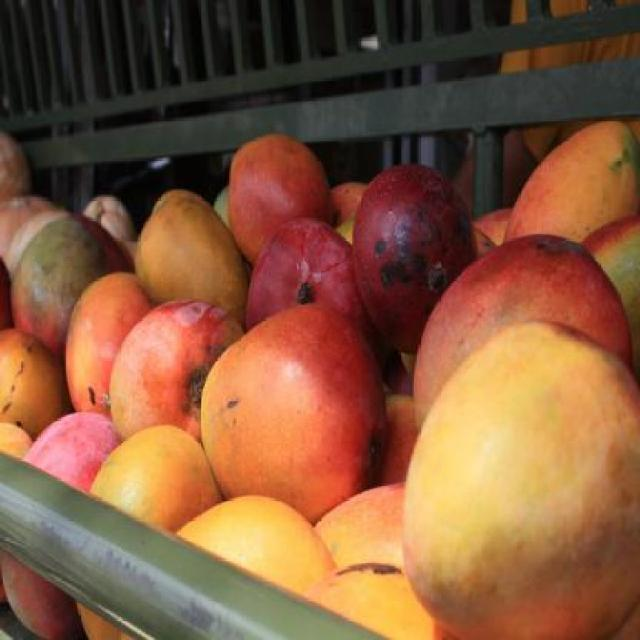Mango: (0, 119, 640, 639), (94, 427, 222, 536)
